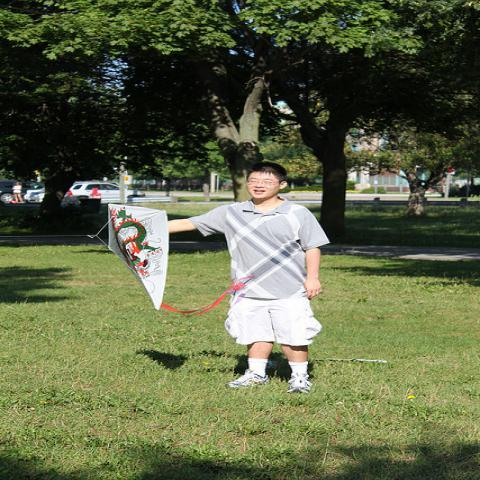car: (72, 183, 142, 198), (0, 181, 34, 202), (25, 187, 46, 203)
